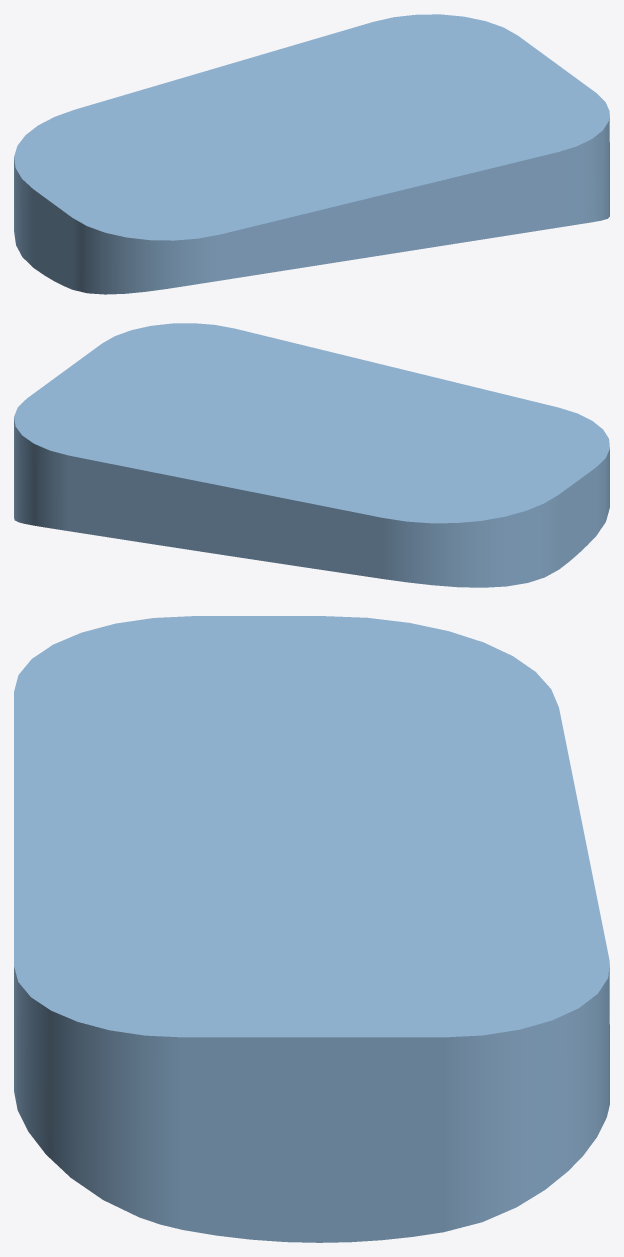
The picture shows the model from 3 angles, top to bottom: view 1: azimuth 30°, elevation 25°; view 2: azimuth 150°, elevation 25°; view 3: azimuth 270°, elevation 25°; orthographic projection. The views are drawn at different scales.
Parts seen in each view (by area): view 1: =>[0:1:1:2]; view 2: =>[0:1:1:2]; view 3: =>[0:1:1:2].
Part boxes in pixels (<box>): =>[0:1:1:2]: <box>14,14,609,294</box>; =>[0:1:1:2]: <box>14,323,609,587</box>; =>[0:1:1:2]: <box>14,616,609,1242</box>.
Size of the model in its own units: 38.92 by 8.85 by 23.27.
